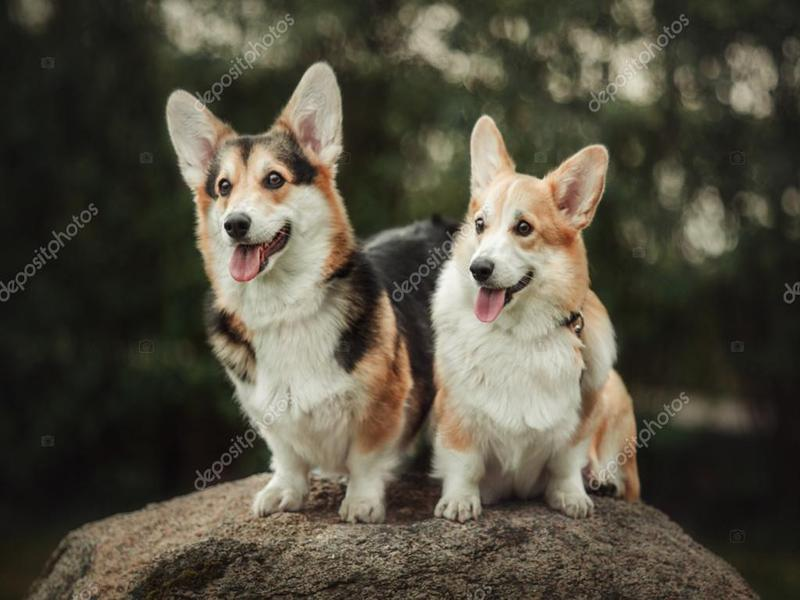corgi: (166, 58, 348, 285)
